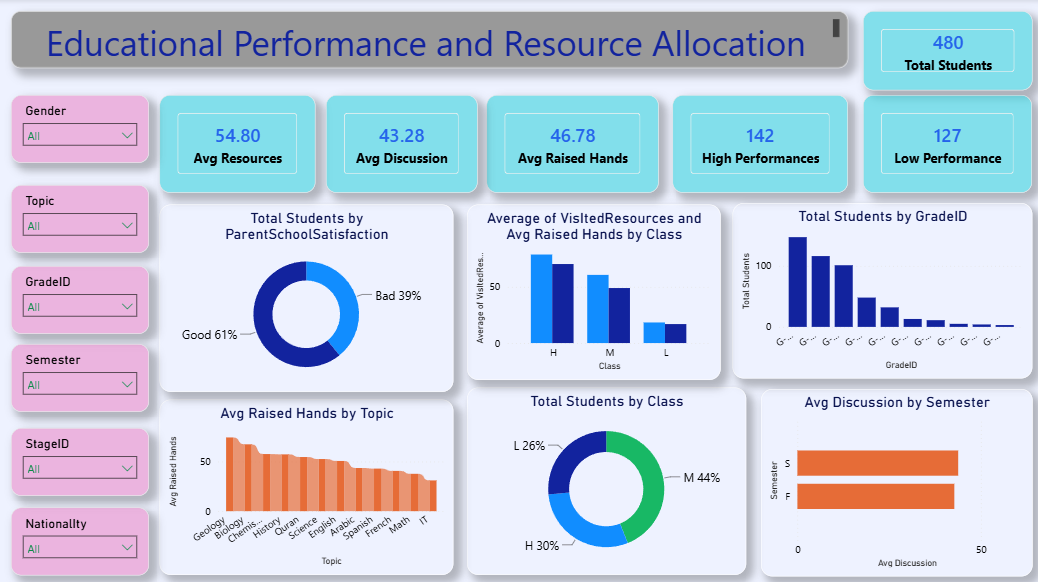

The page's visual inventory and layout, read from the dashboard file:
{"tool":"powerbi","page":{"name":"Page 1","canvas":[1280,720],"ordinal":0},"visuals":[{"type":"textbox","box":[14.8,14.8,1027.2,70],"z":0},{"type":"cardVisual","fields":{"Data":["Edu-Data.Total Students"]},"box":[1060,14,208,97],"z":1000},{"type":"cardVisual","fields":{"Data":["Edu-Data.Avg Raised Hands"]},"box":[599.1,117.1,211.4,119.8],"z":2000},{"type":"cardVisual","fields":{"Data":["Edu-Data.Avg Resources"]},"box":[196.6,118.5,191.2,119.8],"z":3000},{"type":"cardVisual","fields":{"Data":["Edu-Data.Avg Discussion"]},"box":[401.2,118.5,185.8,119.8],"z":4000},{"type":"cardVisual","fields":{"Data":["Edu-Data.High Performances"]},"box":[826.6,117.1,215.4,119.8],"z":5000},{"type":"cardVisual","fields":{"Data":["Edu-Data.Low Performance"]},"box":[1060.8,118.5,207.3,119.8],"z":6000},{"type":"donutChart","fields":{"Category":["Edu-Data.Class"],"Y":["Edu-Data.Total Students"]},"box":[574.3,476.8,342.4,230.1],"z":7000},{"type":"clusteredColumnChart","fields":{"Category":["Edu-Data.GradeID"],"Y":["Edu-Data.Total Students"]},"box":[900.2,250.4,368.2,215.4],"z":8000},{"type":"ribbonChart","fields":{"Category":["Edu-Data.Topic"],"Y":["Edu-Data.Avg Raised Hands"]},"box":[197,491.5,360.8,215.4],"z":9000},{"type":"clusteredColumnChart","fields":{"Y":["Avg(Edu-Data.VisItedResources)","Edu-Data.Avg Raised Hands"],"Category":["Edu-Data.Class"]},"box":[574.3,252.2,311.1,215.4],"z":10000},{"type":"clusteredBarChart","fields":{"Category":["Edu-Data.Semester"],"Y":["Edu-Data.Avg Discussion"]},"box":[935.2,478.6,333.2,230.1],"z":11000},{"type":"donutChart","fields":{"Y":["Edu-Data.Total Students"],"Series":["Edu-Data.ParentSchoolSatisfaction"]},"box":[197,252.2,360.8,230.1],"z":12000},{"type":"slicer","fields":{"Values":["Edu-Data.Gender"]},"box":[14.8,118.5,169.6,83.5],"z":13000},{"type":"slicer","fields":{"Values":["Edu-Data.Topic"]},"box":[14.8,227.5,169.6,83.5],"z":14000},{"type":"slicer","fields":{"Values":["Edu-Data.GradeID"]},"box":[14.8,327.1,169.6,83.5],"z":15000},{"type":"slicer","fields":{"Values":["Edu-Data.Semester"]},"box":[14.8,424.1,169.6,83.5],"z":16000},{"type":"slicer","fields":{"Values":["Edu-Data.StageID"]},"box":[14.8,526.4,169.6,83.5],"z":17000},{"type":"slicer","fields":{"Values":["Edu-Data.NationalIty"]},"box":[14.8,624.7,169.6,83.5],"z":18000}]}

Visuals, with their boxes in screenshot pixels (x1, y1, x2, y2), scaled from the page's 1280x720 canvas onto the 1038x582 screenshot:
textbox: locate(12, 12, 845, 69)
cardVisual - Edu-Data.Total Students: locate(860, 11, 1028, 90)
cardVisual - Edu-Data.Avg Raised Hands: locate(486, 95, 657, 191)
cardVisual - Edu-Data.Avg Resources: locate(159, 96, 314, 193)
cardVisual - Edu-Data.Avg Discussion: locate(325, 96, 476, 193)
cardVisual - Edu-Data.High Performances: locate(670, 95, 845, 191)
cardVisual - Edu-Data.Low Performance: locate(860, 96, 1028, 193)
donutChart - Edu-Data.Class x Edu-Data.Total Students: locate(466, 385, 743, 571)
clusteredColumnChart - Edu-Data.GradeID x Edu-Data.Total Students: locate(730, 202, 1029, 377)
ribbonChart - Edu-Data.Topic x Edu-Data.Avg Raised Hands: locate(160, 397, 452, 571)
clusteredColumnChart - Avg(Edu-Data.VisItedResources) x Edu-Data.Avg Raised Hands: locate(466, 204, 718, 378)
clusteredBarChart - Edu-Data.Semester x Edu-Data.Avg Discussion: locate(758, 387, 1029, 573)
donutChart - Edu-Data.Total Students x Edu-Data.ParentSchoolSatisfaction: locate(160, 204, 452, 390)
slicer - Edu-Data.Gender: locate(12, 96, 150, 163)
slicer - Edu-Data.Topic: locate(12, 184, 150, 251)
slicer - Edu-Data.GradeID: locate(12, 264, 150, 332)
slicer - Edu-Data.Semester: locate(12, 343, 150, 410)
slicer - Edu-Data.StageID: locate(12, 426, 150, 493)
slicer - Edu-Data.NationalIty: locate(12, 505, 150, 572)
